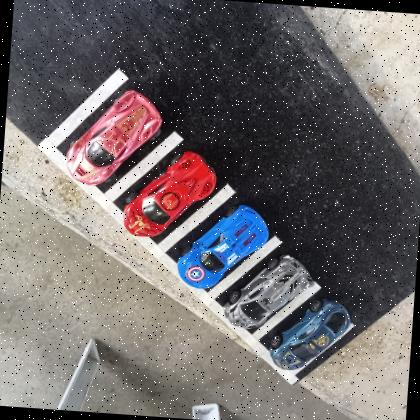Car: (65, 88, 163, 186), (123, 150, 218, 237), (176, 204, 270, 289), (222, 255, 316, 330), (269, 298, 352, 371)
